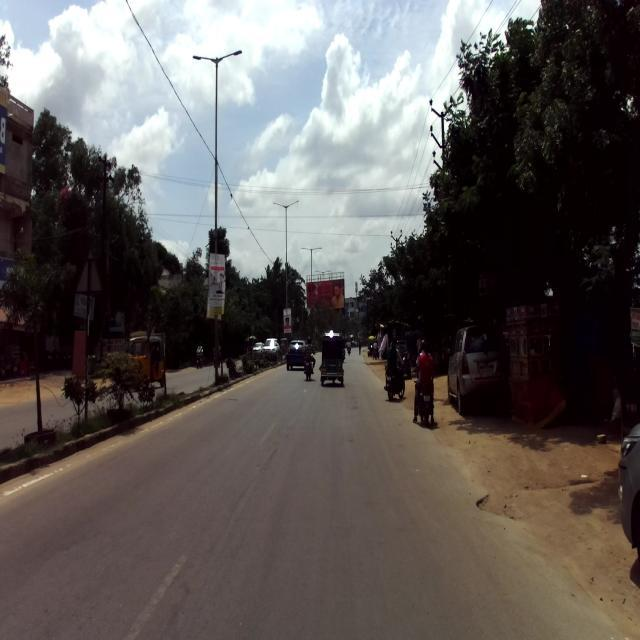Pothole: (459, 484, 533, 562)
